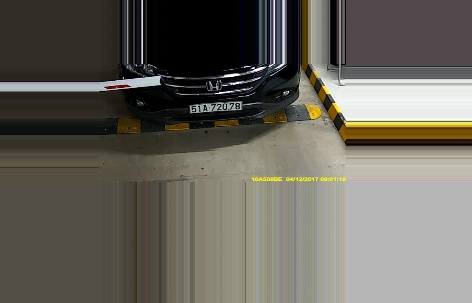plate: (187, 98, 243, 113)
